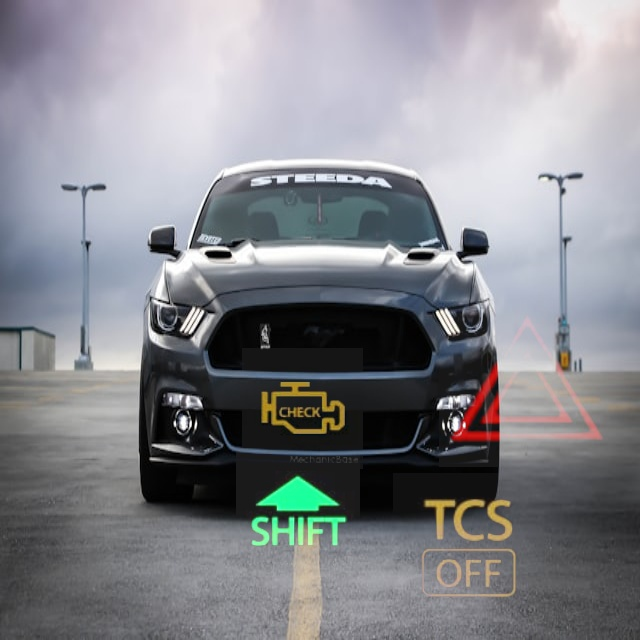symbol: (439, 287, 619, 467), (393, 473, 548, 628), (236, 451, 360, 575), (242, 348, 363, 469)
